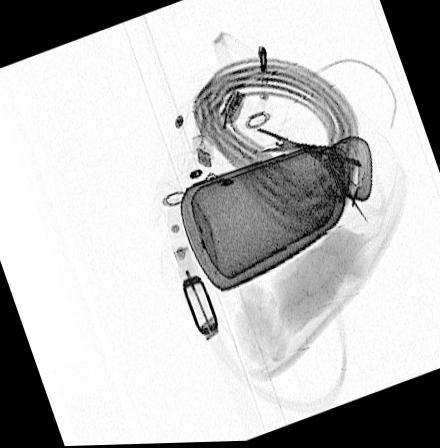Scissors: (255, 128, 369, 226)
